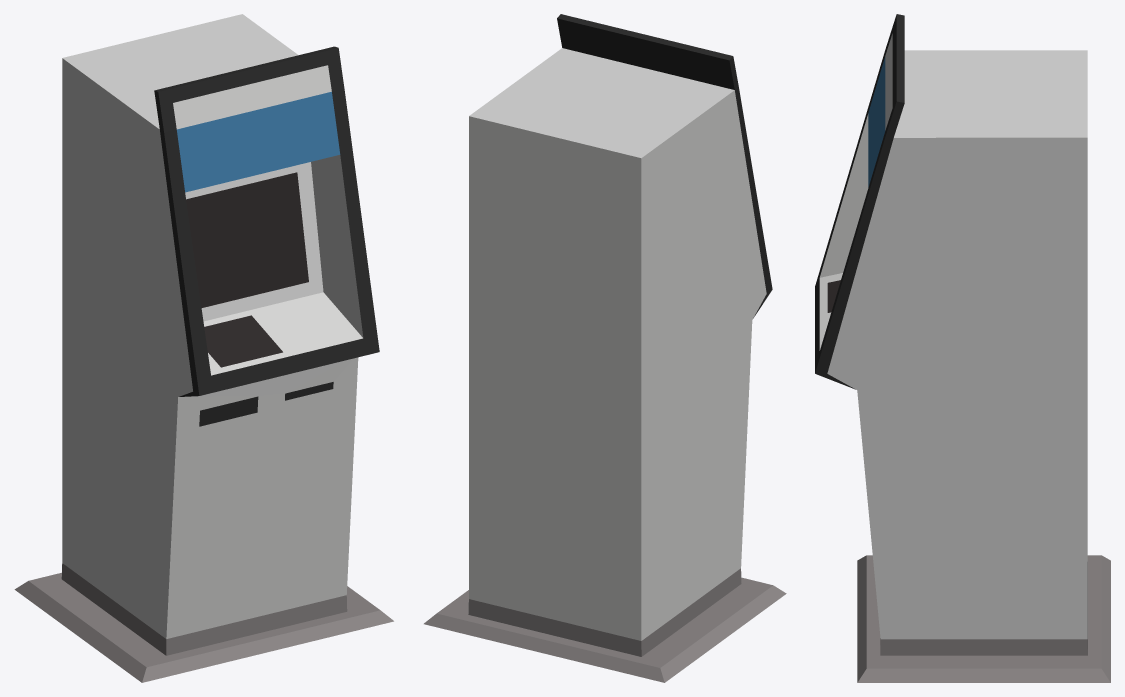
Rendered from atm-mechine.fbx.
3 renders of one model, left to right at view 1: azimuth 30°, elevation 25°; view 2: azimuth 150°, elevation 25°; view 3: azimuth 270°, elevation 25°, orthographic. The views are drawn at different scales.
Visible parts, largest first — view 1: atm-mechine.fbx; view 2: atm-mechine.fbx; view 3: atm-mechine.fbx.
Part boxes in pixels (x1=…): atm-mechine.fbx: x1=14, y1=14, x2=393, y2=682; atm-mechine.fbx: x1=424, y1=14, x2=786, y2=682; atm-mechine.fbx: x1=815, y1=14, x2=1110, y2=682.
Bounding box in the file's own units: 0.8 × 1.72 × 0.8169.
